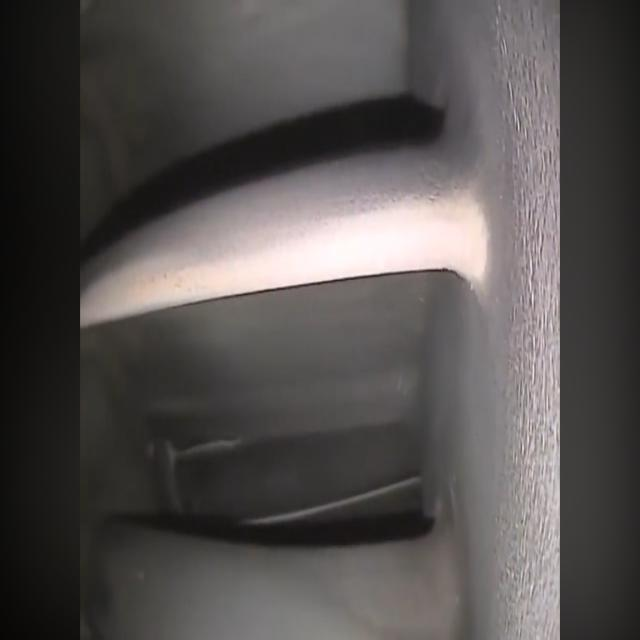turbine_blade: (80, 139, 486, 444), (77, 0, 410, 197)
